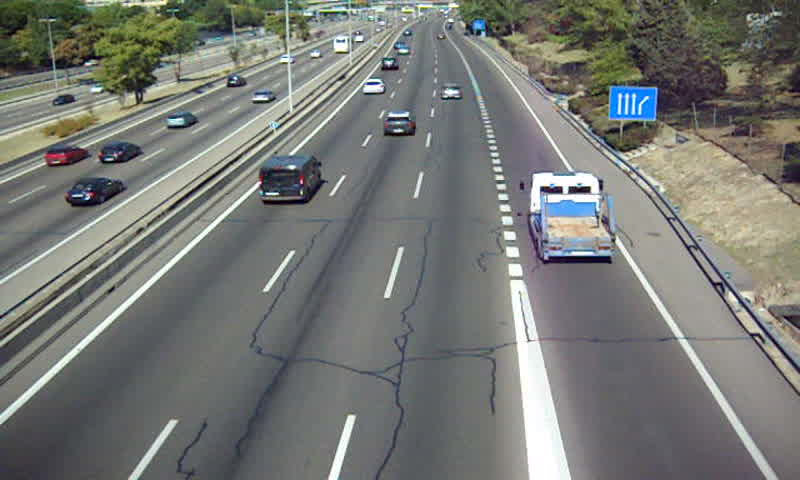car: (384, 111, 414, 137), (440, 83, 463, 102), (361, 78, 385, 94), (380, 56, 398, 72)
small-truck: (529, 172, 618, 259)
van: (259, 156, 321, 202)
